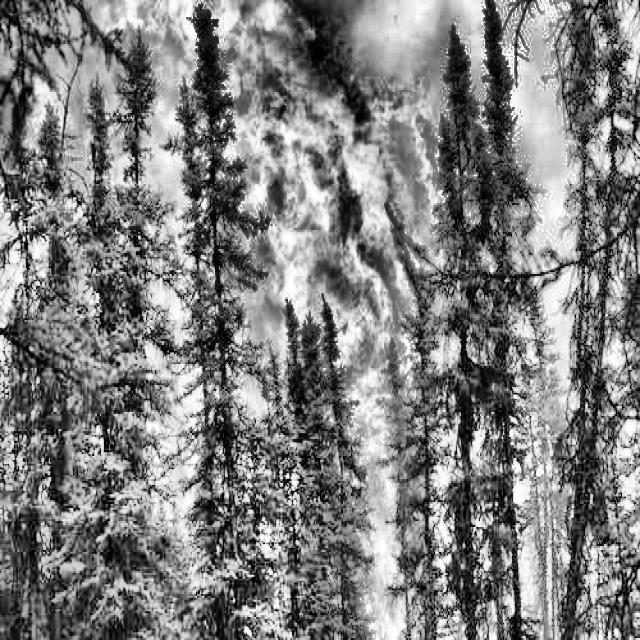fire: (1, 5, 621, 640)
